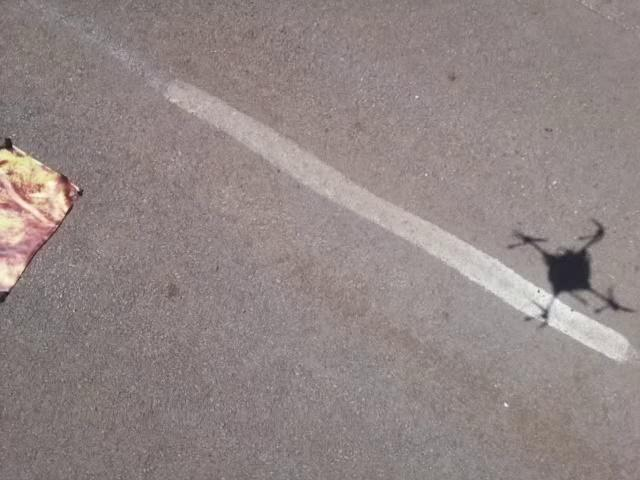fire-poster: (0, 133, 84, 309)
